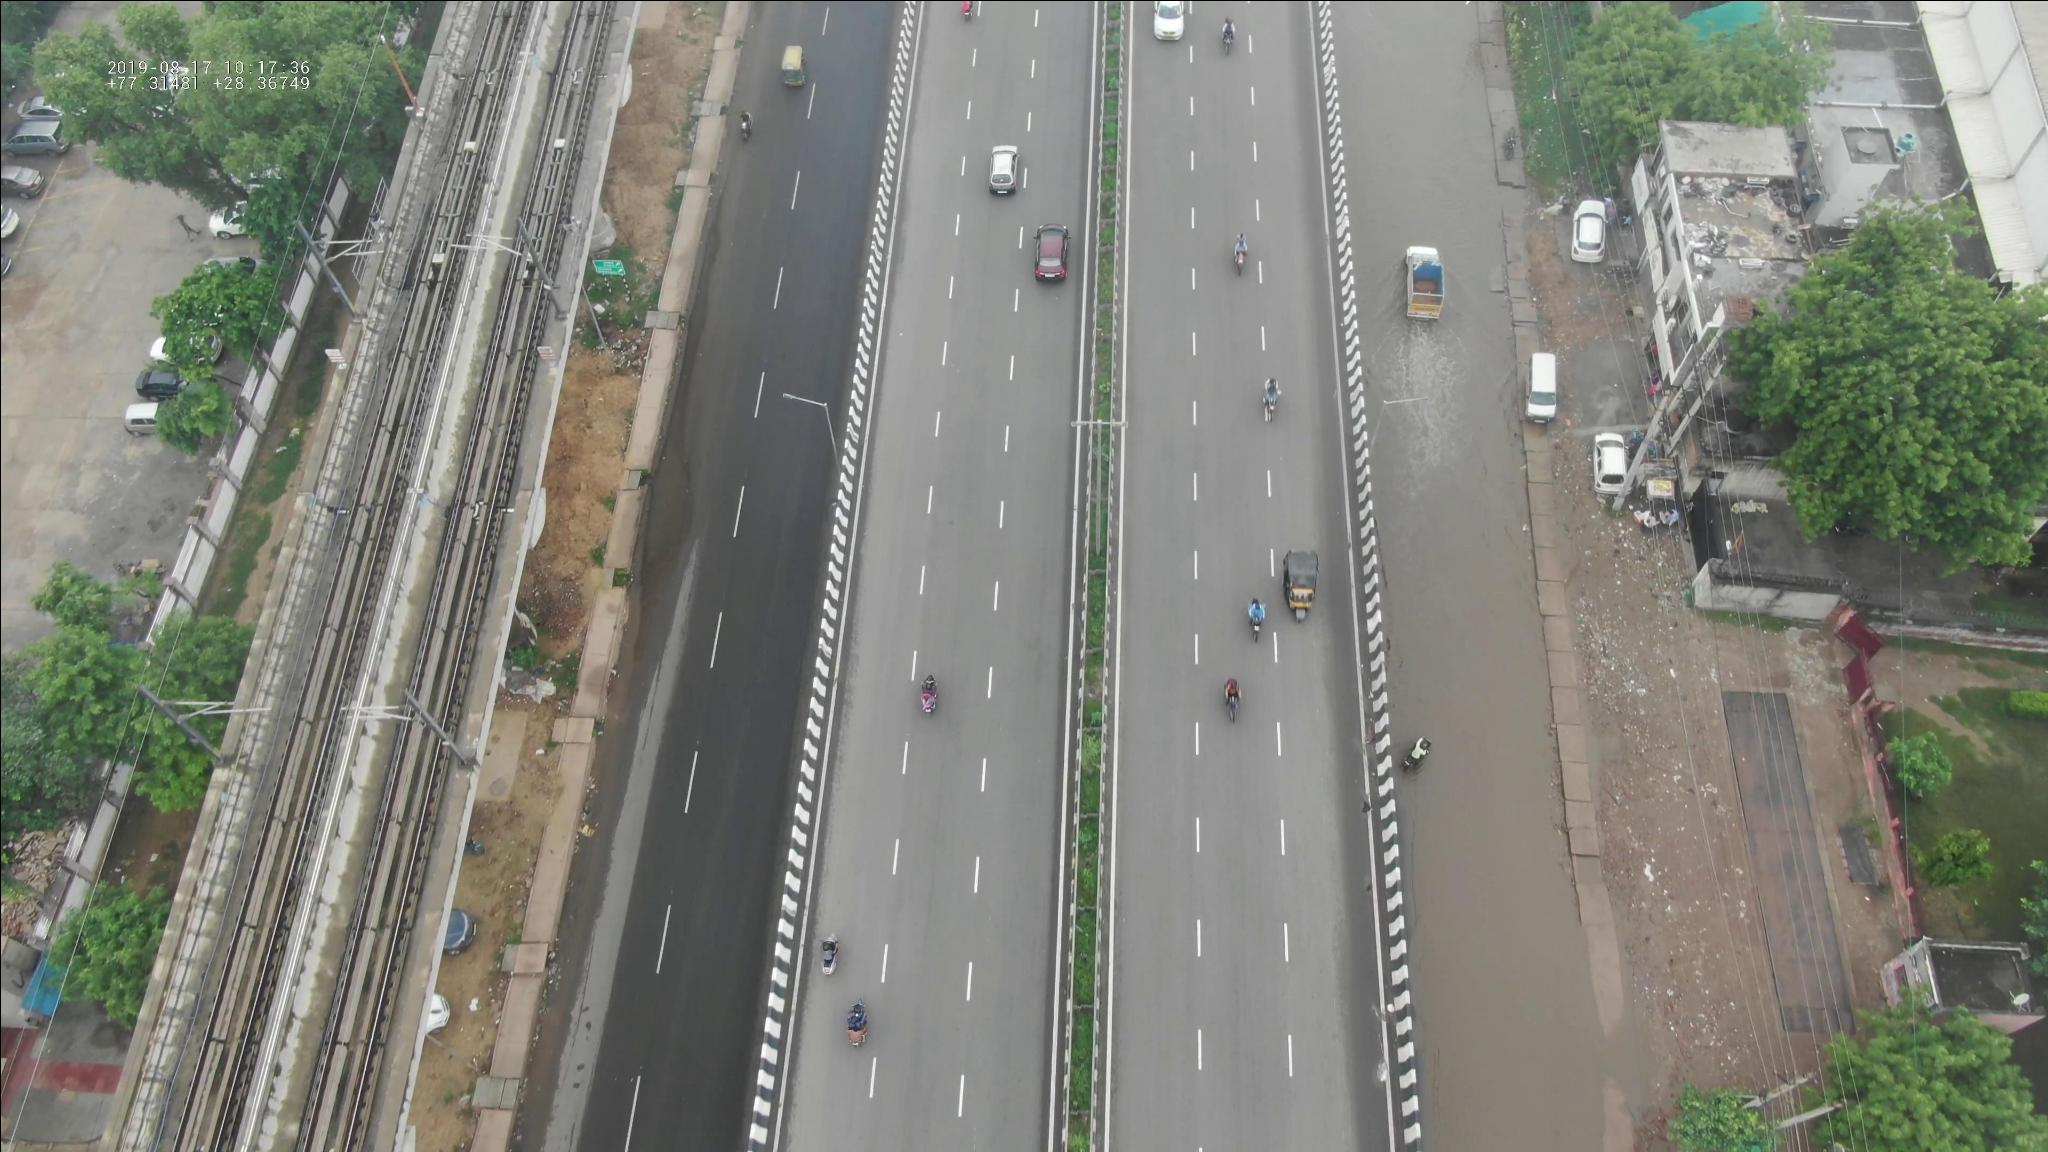Waterlogging: (1398, 594, 1571, 964), (1378, 214, 1512, 544), (1340, 8, 1485, 198), (663, 208, 726, 411), (629, 421, 708, 571)
